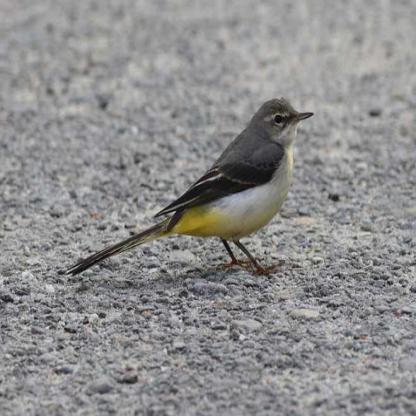Burung: (62, 95, 316, 282)
